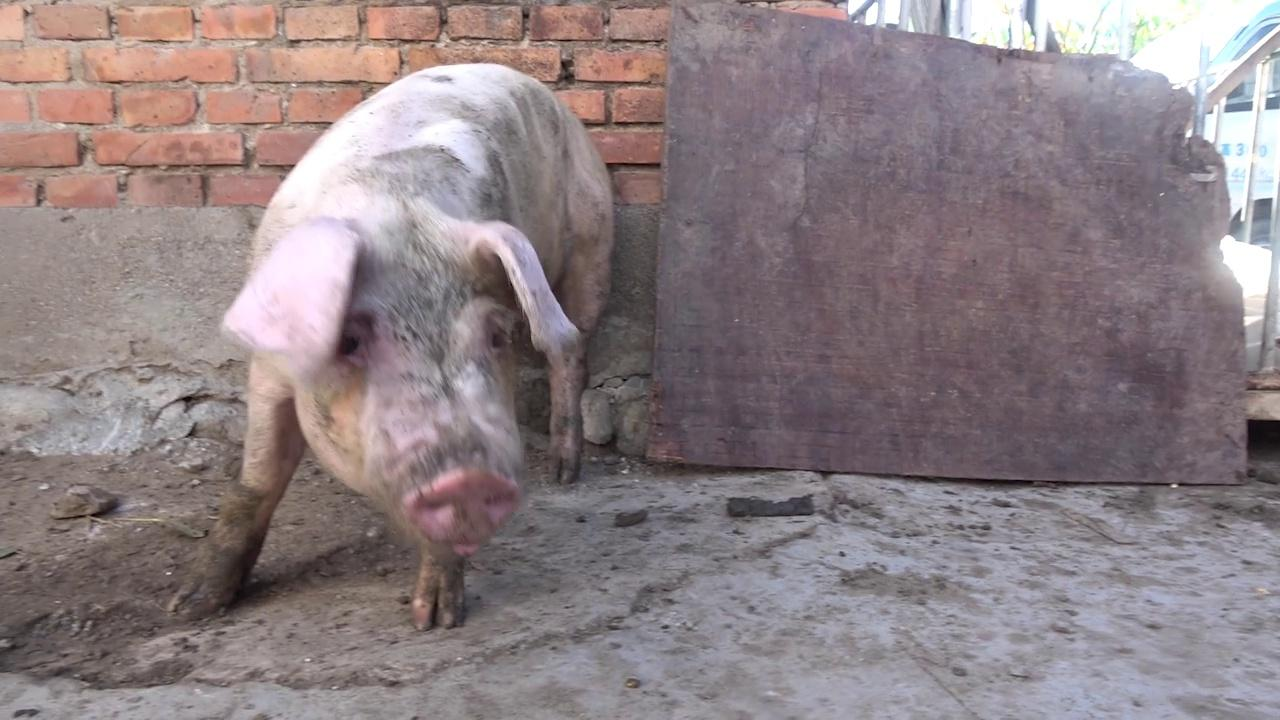Face: (225, 209, 608, 590)
